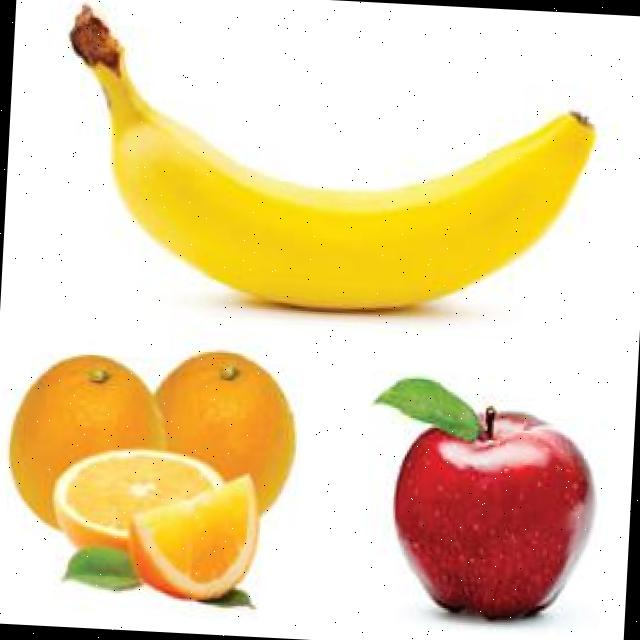Apel: (360, 374, 601, 624)
Jeruk: (4, 348, 171, 536), (148, 345, 299, 517), (48, 442, 226, 556), (122, 464, 260, 602)
Pisang: (54, 0, 600, 323)
